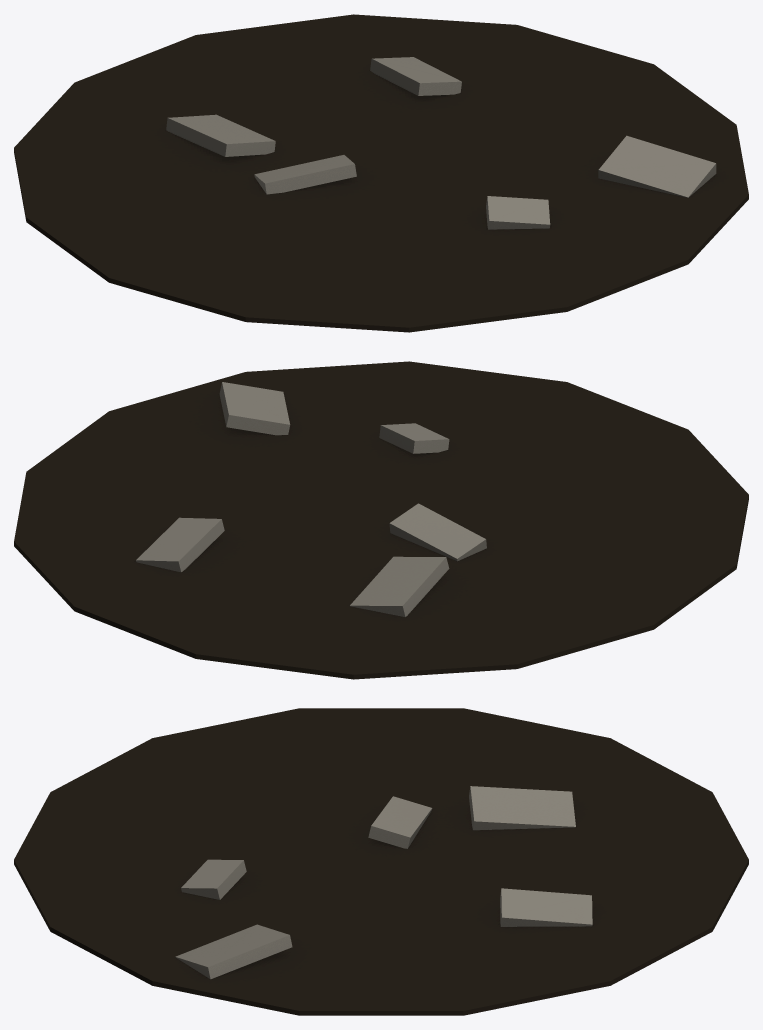
The model's file is trace_lin.glb.
3 views of the same model, one above another, from view 1: azimuth 30°, elevation 25°; view 2: azimuth 150°, elevation 25°; view 3: azimuth 270°, elevation 25° (orthographic).
Visible parts, largest first — view 1: trace_lin.001; view 2: trace_lin.001; view 3: trace_lin.001.
Part boxes in pixels (x1,y1,x2,y2): trace_lin.001: (14, 14, 748, 332); trace_lin.001: (14, 361, 748, 679); trace_lin.001: (14, 708, 748, 1015).
Bounding box in the file's own units: 0.546 × 0.0266 × 0.56.
2 materials, 2 textured.
